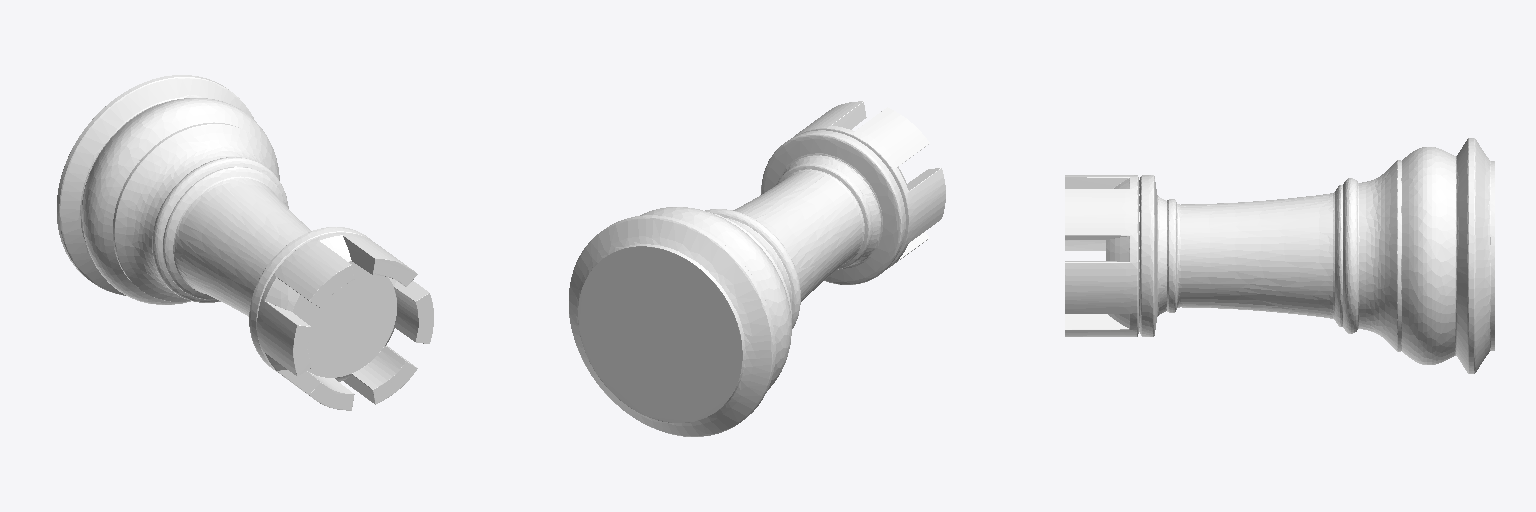
The model's file is rook.obj.
3 renders of one model, left to right at view 1: azimuth 30°, elevation 25°; view 2: azimuth 150°, elevation 25°; view 3: azimuth 270°, elevation 25°, orthographic.
Visible parts, largest first — view 1: 12934_Wooden_Chess_Rook_Side_B_V2_L3.002; view 2: 12934_Wooden_Chess_Rook_Side_B_V2_L3.002; view 3: 12934_Wooden_Chess_Rook_Side_B_V2_L3.002.
Boxes of the visible parts, box(x1,y1,x2,y2) form: 12934_Wooden_Chess_Rook_Side_B_V2_L3.002: box(57, 75, 433, 410); 12934_Wooden_Chess_Rook_Side_B_V2_L3.002: box(569, 101, 945, 436); 12934_Wooden_Chess_Rook_Side_B_V2_L3.002: box(1065, 138, 1494, 373).
Bounding box in the file's own units: 0.9284 × 0.928 × 1.69.